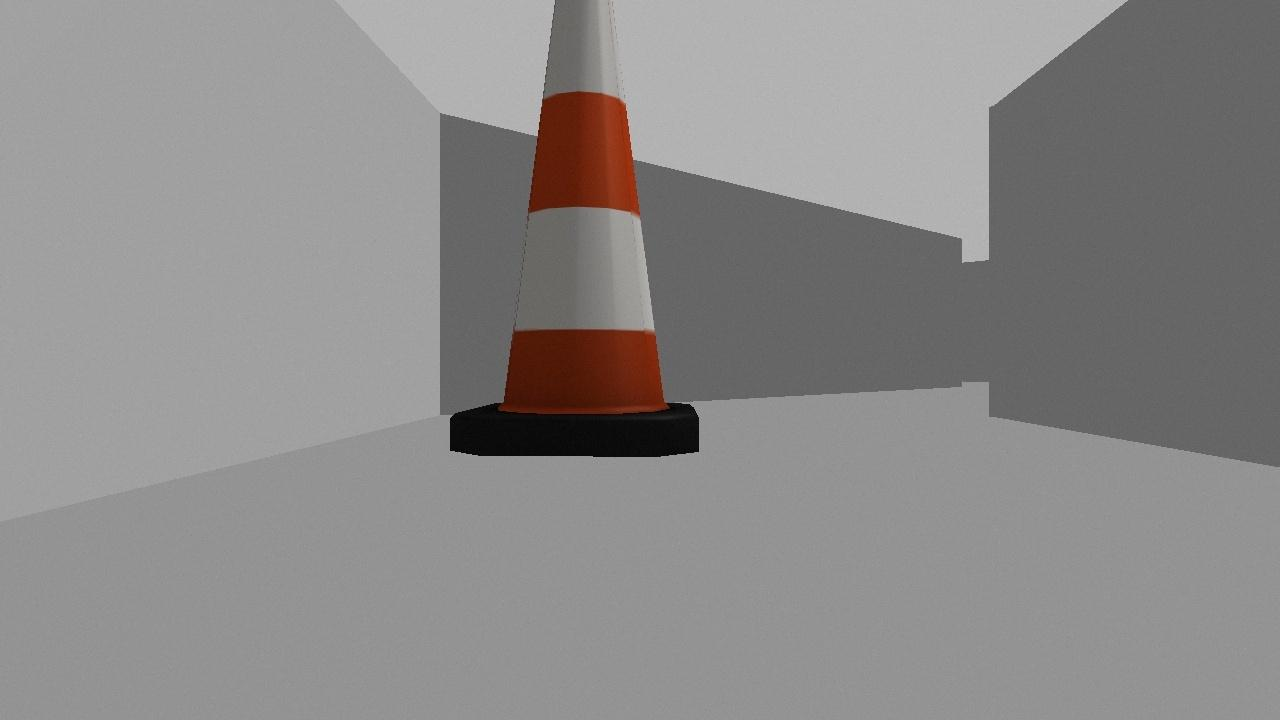cone_barrel: (441, 0, 705, 461)
